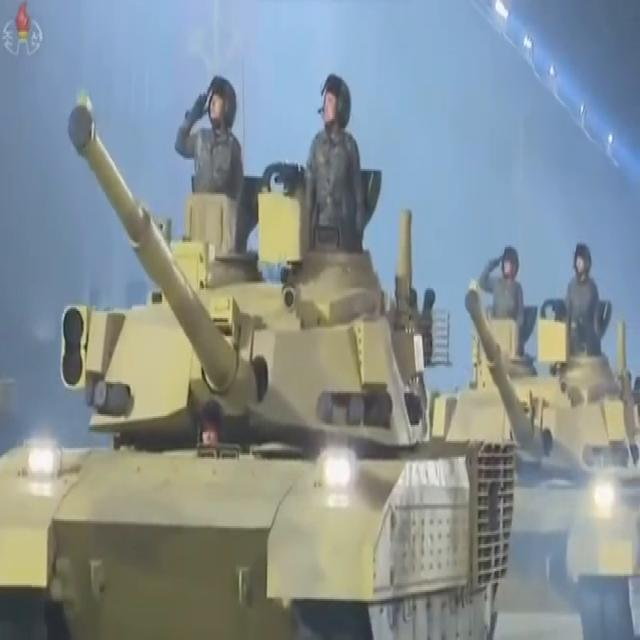north tank: (14, 65, 508, 640), (428, 265, 640, 640)
